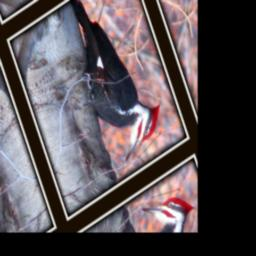Woodpecker: (52, 0, 170, 176)
